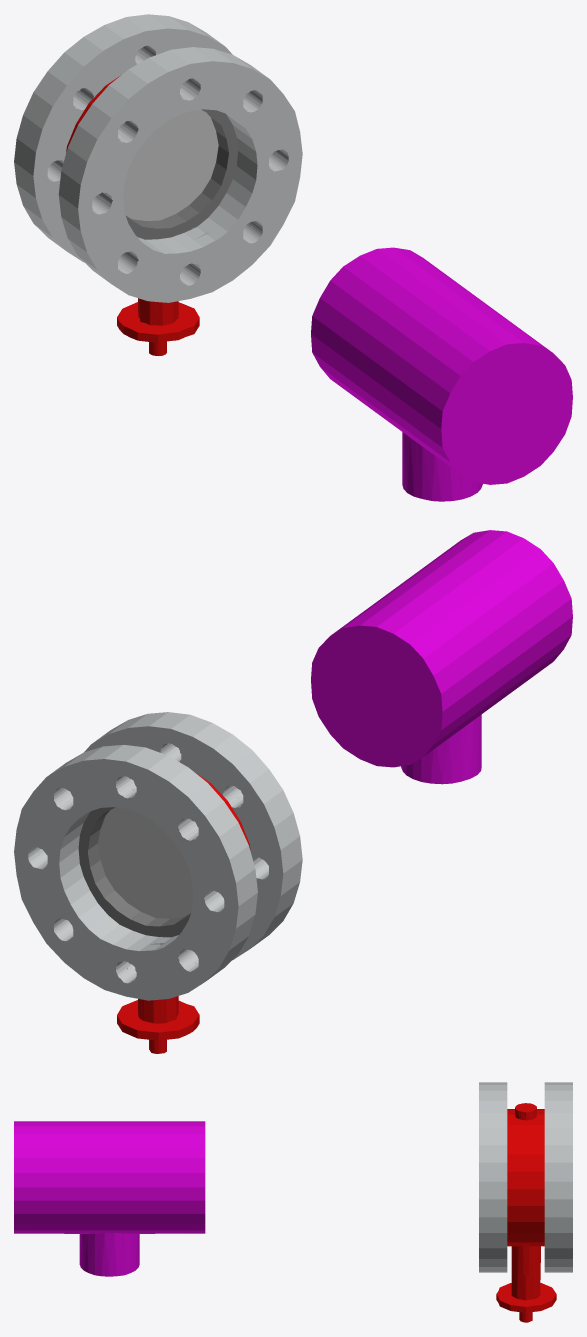
3 views of the same model, one above another, from view 1: azimuth 30°, elevation 25°; view 2: azimuth 150°, elevation 25°; view 3: azimuth 270°, elevation 25° (orthographic). The views are drawn at different scales.
Bounding box in the file's own units: 0.2848 × 0.378 × 0.8363.
